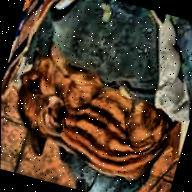boar: (0, 30, 192, 187)
